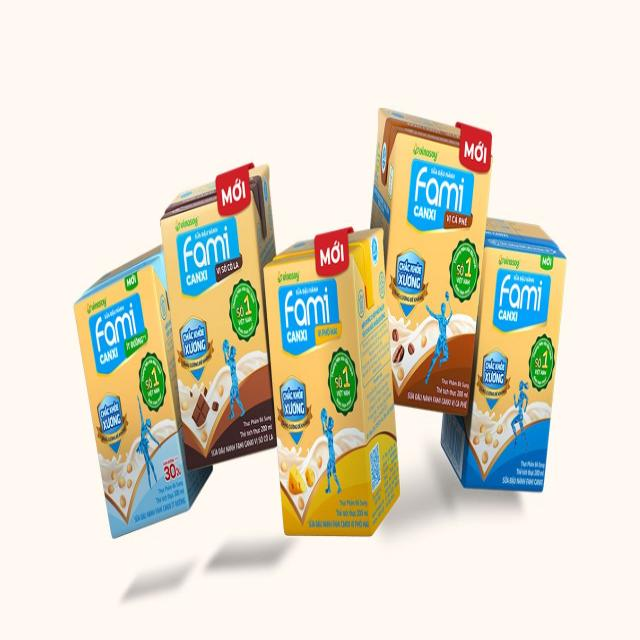Fami: (265, 224, 402, 537), (75, 246, 214, 541), (371, 106, 493, 416), (161, 163, 279, 476), (441, 216, 569, 492)
